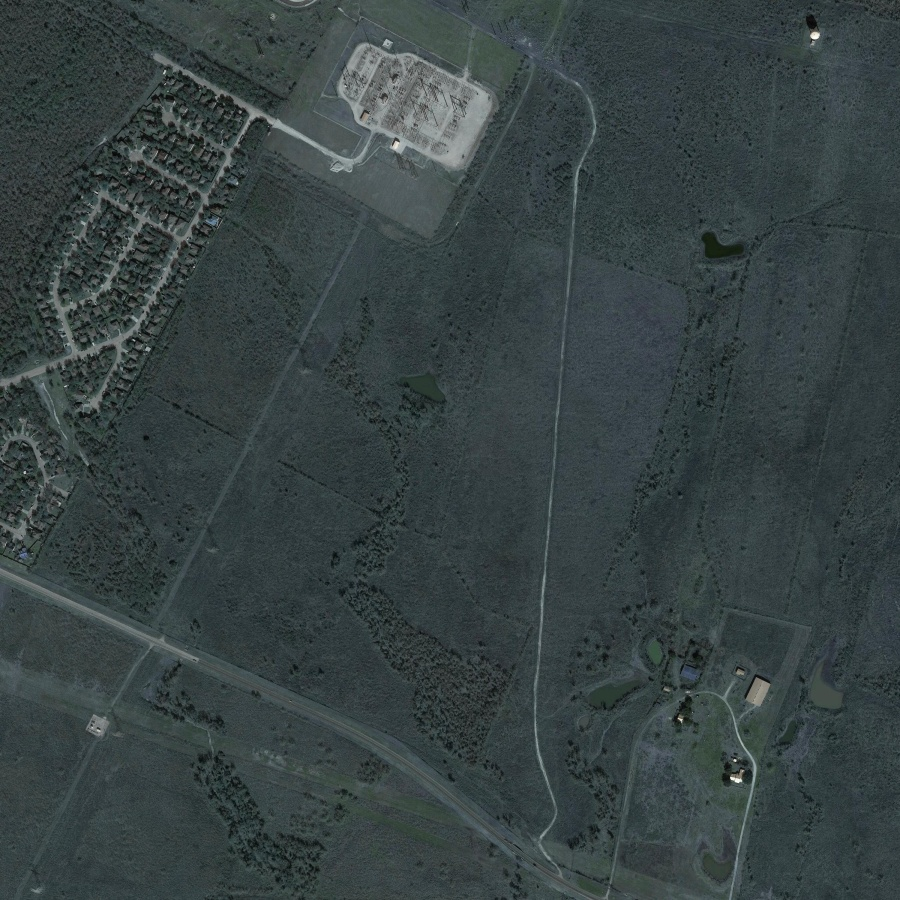PowerPlant: (335, 27, 482, 164)
